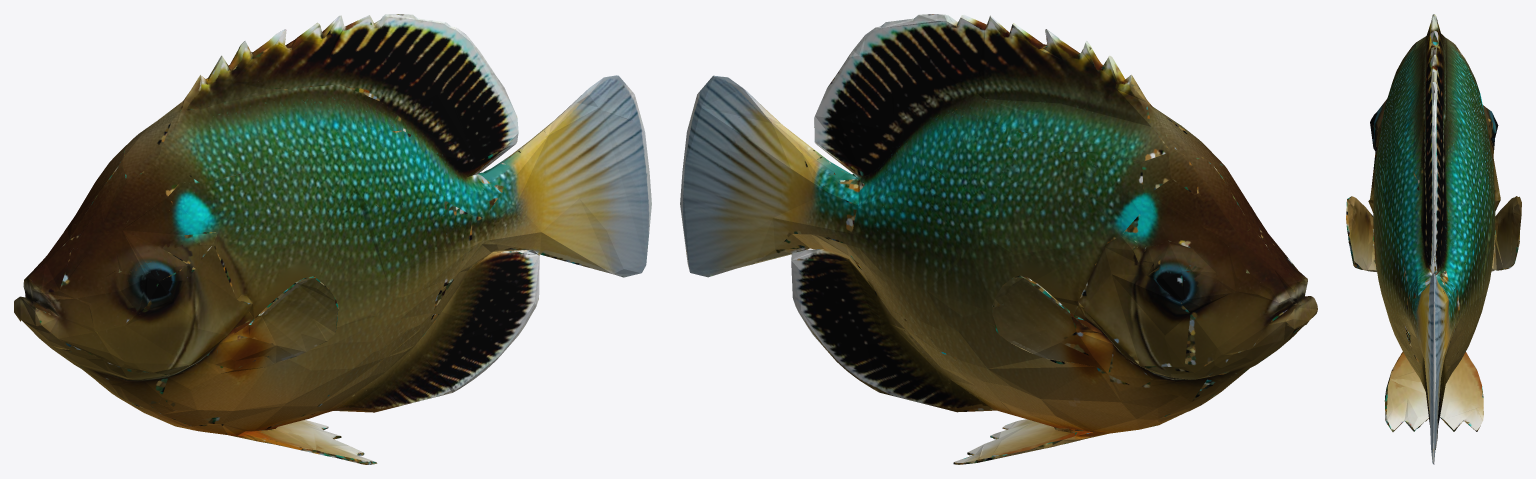
Rendered from fish_0027_smpl23_resized.glb.
The picture shows the model from 3 angles, left to right: view 1: azimuth 30°, elevation 25°; view 2: azimuth 150°, elevation 25°; view 3: azimuth 270°, elevation 25°; orthographic projection. The views are drawn at different scales.
Visible parts, largest first — view 1: world; view 2: world; view 3: world.
Part boxes in pixels (x1,y1,x2,y2): world: [14, 14, 651, 464]; world: [680, 14, 1317, 464]; world: [1346, 14, 1521, 464].
Bounding box in the file's own units: 1.99 × 1.31 × 0.5606.
1 material, 1 textured.
